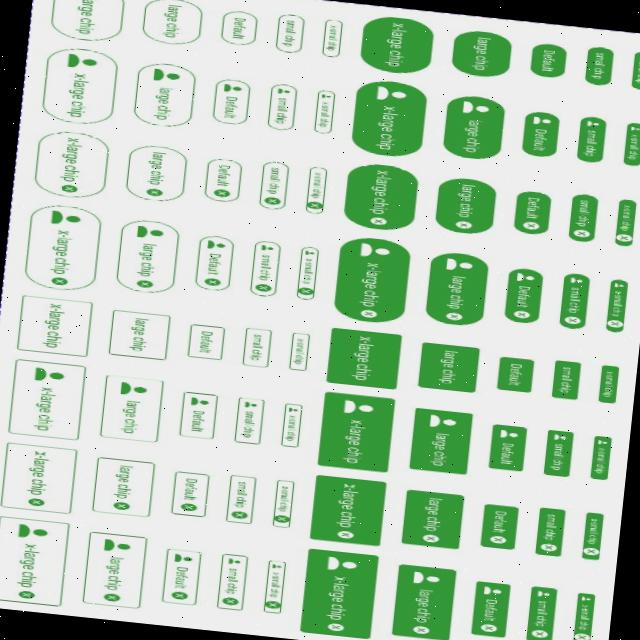QLabel: (341, 414, 369, 464), (58, 134, 86, 184), (357, 257, 384, 307), (349, 332, 376, 382), (65, 68, 92, 118), (41, 300, 68, 350), (15, 538, 42, 588), (48, 226, 76, 274), (374, 101, 401, 150), (324, 572, 351, 620), (25, 448, 52, 496), (382, 21, 409, 68), (334, 481, 361, 528), (368, 168, 392, 214), (32, 384, 56, 430), (412, 584, 436, 624), (428, 428, 452, 468), (144, 148, 168, 188), (135, 238, 159, 278), (469, 34, 494, 72), (436, 346, 461, 384), (73, 0, 100, 35), (112, 462, 136, 501), (444, 272, 468, 310), (421, 494, 445, 532), (454, 180, 478, 218), (160, 1, 184, 39), (152, 82, 176, 120), (127, 314, 151, 352), (102, 552, 126, 590), (119, 395, 142, 434), (462, 115, 484, 154), (490, 507, 510, 535), (542, 510, 560, 541), (248, 331, 266, 362), (575, 196, 592, 228), (583, 126, 600, 158), (566, 284, 584, 314), (224, 564, 242, 594), (506, 360, 526, 387), (240, 408, 258, 438), (482, 594, 501, 622), (539, 46, 558, 74), (230, 12, 249, 40), (591, 49, 608, 80), (257, 251, 274, 282), (524, 193, 543, 220), (498, 438, 517, 465), (534, 596, 550, 628), (550, 440, 567, 470), (266, 164, 283, 194), (274, 94, 291, 124), (233, 478, 250, 508), (182, 474, 200, 502), (531, 125, 549, 152), (618, 201, 634, 231), (610, 286, 625, 318), (558, 364, 574, 394), (282, 17, 298, 47), (292, 334, 307, 366), (515, 282, 533, 308), (222, 93, 240, 119), (206, 250, 224, 276), (190, 406, 208, 432), (173, 563, 191, 589), (215, 162, 233, 188), (325, 21, 340, 52), (300, 255, 315, 285), (276, 482, 290, 514), (198, 328, 215, 354), (626, 130, 640, 161), (594, 444, 608, 475), (284, 411, 298, 442), (586, 514, 599, 546), (577, 601, 591, 630), (268, 568, 282, 597), (310, 168, 323, 199), (317, 98, 330, 128), (601, 369, 615, 396), (635, 55, 640, 82)
VChip: (22, 201, 104, 292), (298, 546, 378, 638), (332, 234, 412, 325), (7, 358, 88, 440), (316, 389, 396, 472), (39, 44, 119, 126), (349, 76, 428, 158), (0, 514, 71, 605), (308, 472, 388, 546), (32, 126, 111, 199), (0, 440, 79, 513), (342, 160, 420, 232), (390, 562, 458, 640), (114, 216, 182, 294), (81, 530, 149, 608), (423, 248, 490, 326), (358, 12, 436, 75), (325, 325, 402, 388), (16, 294, 94, 356), (407, 406, 474, 474), (132, 59, 198, 128), (440, 92, 506, 160), (99, 374, 164, 442), (400, 487, 466, 549), (124, 141, 190, 203), (91, 455, 156, 516), (433, 174, 498, 234), (416, 340, 481, 392), (450, 27, 514, 78), (48, 0, 125, 42), (108, 307, 170, 359), (140, 0, 205, 46), (160, 546, 203, 605), (194, 233, 235, 290), (470, 580, 511, 636), (503, 266, 544, 322), (178, 389, 220, 438), (215, 552, 250, 610), (478, 502, 520, 549), (248, 238, 282, 296), (488, 422, 528, 471), (212, 76, 252, 125), (521, 109, 561, 157), (524, 584, 558, 640), (170, 469, 210, 516), (203, 155, 243, 202), (512, 188, 552, 234), (558, 271, 590, 328), (224, 472, 258, 524), (566, 192, 600, 242), (232, 394, 266, 444), (257, 159, 290, 209), (534, 505, 566, 556), (575, 114, 608, 163), (542, 427, 575, 476), (266, 81, 298, 130), (528, 40, 568, 78), (186, 322, 226, 359), (262, 557, 288, 613), (496, 354, 534, 392), (220, 8, 258, 46), (295, 244, 320, 300), (240, 326, 273, 366), (270, 478, 296, 528), (274, 12, 306, 52), (550, 358, 581, 399), (571, 590, 596, 640), (605, 278, 628, 332), (580, 510, 605, 559), (584, 44, 614, 84), (304, 164, 328, 213), (589, 433, 613, 479), (614, 198, 637, 245), (280, 401, 304, 446), (313, 88, 336, 133), (286, 330, 310, 370), (596, 362, 620, 402), (321, 17, 344, 57), (622, 120, 640, 165), (630, 49, 640, 89)
VIcon: (323, 554, 358, 572), (340, 398, 376, 415), (49, 208, 82, 226), (358, 242, 391, 258), (34, 365, 65, 382), (17, 522, 48, 539), (66, 52, 98, 68), (376, 84, 406, 101), (427, 412, 457, 428), (460, 99, 490, 114), (102, 537, 132, 552), (152, 66, 180, 82), (120, 380, 148, 396), (444, 256, 473, 271), (136, 224, 165, 238), (412, 570, 440, 584), (325, 620, 345, 632), (515, 270, 534, 282), (144, 186, 165, 196), (498, 428, 519, 438), (189, 396, 210, 406), (481, 585, 502, 595), (532, 114, 552, 124), (222, 82, 242, 92), (212, 186, 232, 196), (368, 214, 388, 224), (571, 227, 591, 237), (444, 310, 464, 320), (358, 308, 378, 318), (111, 499, 131, 509), (538, 541, 558, 551), (478, 622, 498, 632), (60, 182, 79, 192), (263, 194, 282, 204), (453, 218, 472, 228), (521, 220, 540, 230), (512, 308, 531, 318), (207, 238, 226, 248), (203, 276, 222, 286), (50, 274, 69, 284), (27, 496, 46, 506), (179, 501, 198, 511), (336, 528, 355, 538), (421, 532, 440, 542), (412, 624, 431, 634), (170, 590, 189, 600), (102, 591, 121, 601), (136, 278, 154, 288), (230, 508, 248, 518), (530, 628, 548, 638), (222, 594, 240, 604), (174, 552, 192, 562), (18, 588, 36, 598), (606, 318, 623, 328), (255, 281, 272, 291), (489, 534, 506, 544), (573, 630, 590, 640), (306, 200, 322, 210), (616, 232, 632, 242), (564, 314, 580, 324), (298, 285, 314, 295), (582, 545, 598, 555), (265, 598, 280, 608), (274, 514, 289, 522), (276, 86, 290, 94), (552, 432, 568, 439), (228, 556, 241, 564), (586, 119, 600, 126), (244, 400, 258, 407), (536, 589, 550, 596), (568, 276, 584, 282), (261, 243, 274, 250), (321, 92, 332, 98), (580, 594, 591, 600), (271, 562, 281, 568), (597, 438, 608, 443), (630, 125, 640, 130), (304, 249, 314, 254), (287, 406, 298, 410), (614, 282, 624, 286)
